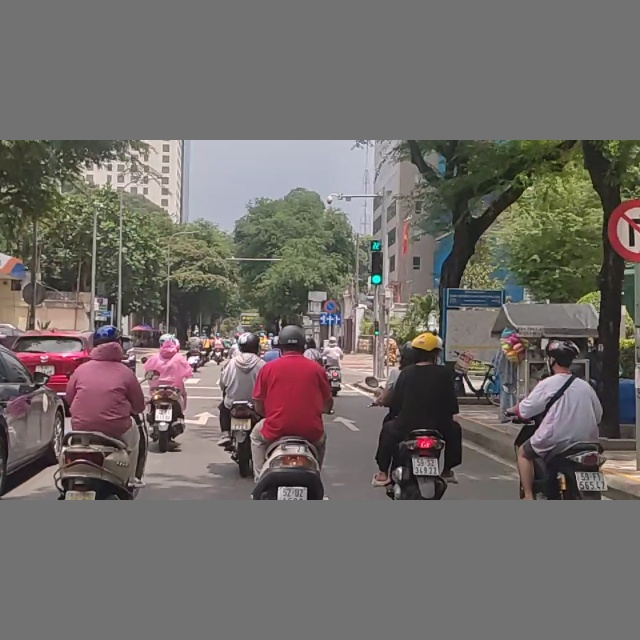P.131a: (323, 298, 339, 313)
